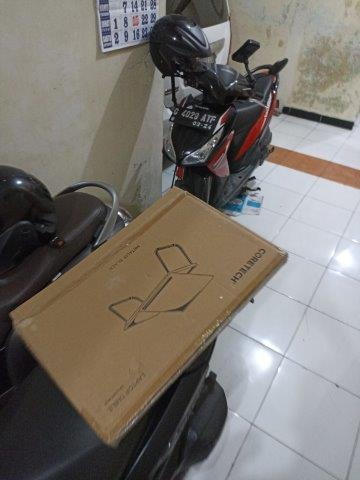kardus: (12, 188, 287, 445)
